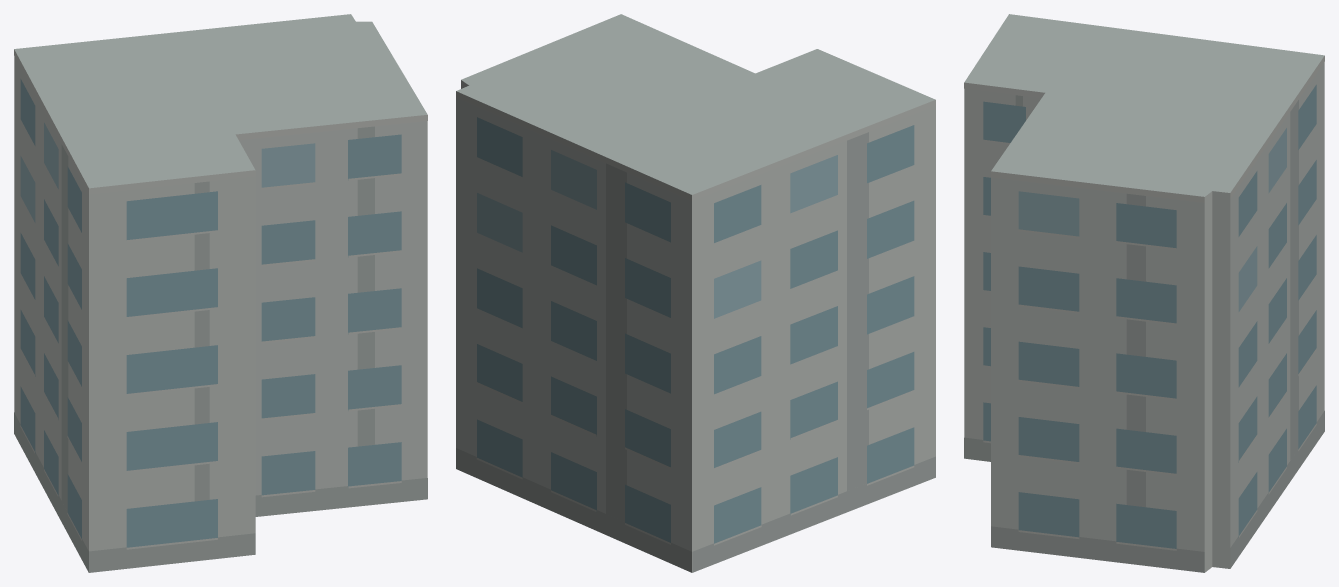
The model's file is survey-upis-32880210.glb.
The picture shows the model from 3 angles, left to right: view 1: azimuth 30°, elevation 25°; view 2: azimuth 150°, elevation 25°; view 3: azimuth 270°, elevation 25°; orthographic projection. The views are drawn at different scales.
Parts seen in each view (by area): view 1: survey-upis-32880210.tmp; view 2: survey-upis-32880210.tmp; view 3: survey-upis-32880210.tmp.
Boxes of the visible parts, left/top/right/bottom form: survey-upis-32880210.tmp: left=14, top=14, right=427, bottom=572; survey-upis-32880210.tmp: left=456, top=14, right=935, bottom=572; survey-upis-32880210.tmp: left=964, top=14, right=1324, bottom=572.
Bounding box in the file's own units: 15.55 × 14.9 × 12.96.
